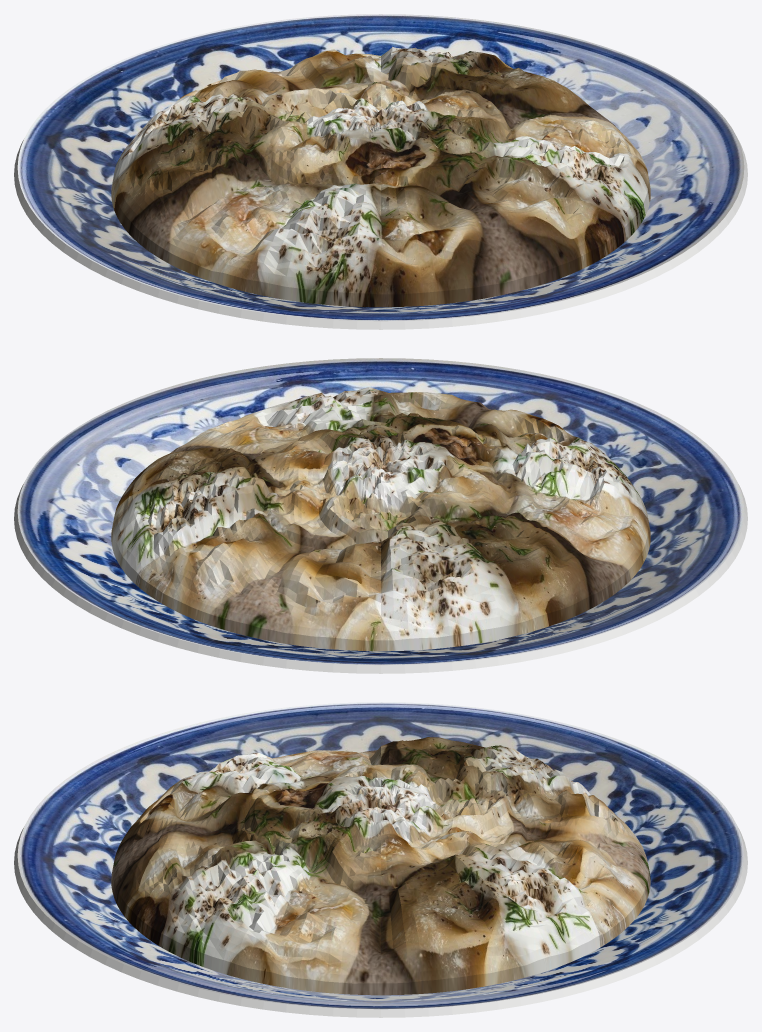
Rendered from manti.glb.
3 views of the same model, one above another, from view 1: azimuth 30°, elevation 25°; view 2: azimuth 150°, elevation 25°; view 3: azimuth 270°, elevation 25° (orthographic).
Visible parts, largest first — view 1: manti_2, manti_0, manti_1; view 2: manti_2, manti_0, manti_1; view 3: manti_2, manti_0, manti_1.
Boxes of the visible parts, x1=… form: manti_2: x1=111, y1=46, x2=650, y2=307; manti_0: x1=17, y1=14, x2=744, y2=321; manti_1: x1=14, y1=140, x2=747, y2=329; manti_2: x1=111, y1=387, x2=650, y2=651; manti_0: x1=17, y1=358, x2=744, y2=665; manti_1: x1=14, y1=484, x2=747, y2=673; manti_2: x1=111, y1=737, x2=650, y2=995; manti_0: x1=17, y1=702, x2=744, y2=1009; manti_1: x1=14, y1=828, x2=747, y2=1017.
Size of the model in its own units: 0.2828 by 0.0464 by 0.2828.
3 materials, 2 textured.
